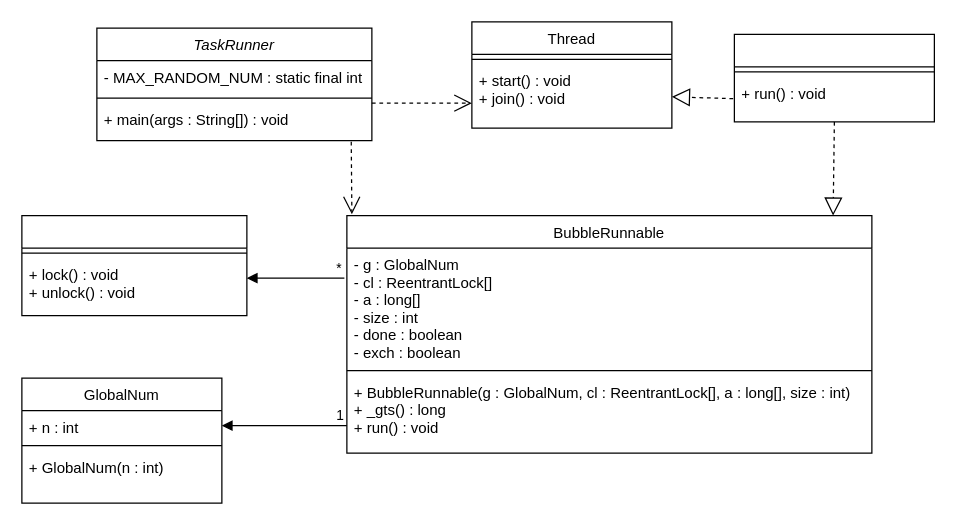
Image size: 956x525. Some labels were removed from this diagram. The box of each missing label's shape, as (x1, y1, x2, y2) in pixels:
ReentrantLock: (21, 214, 247, 316)
«interface» Runnable: (733, 33, 934, 122)
